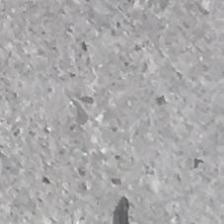Non_Crack: (29, 24, 224, 200)
